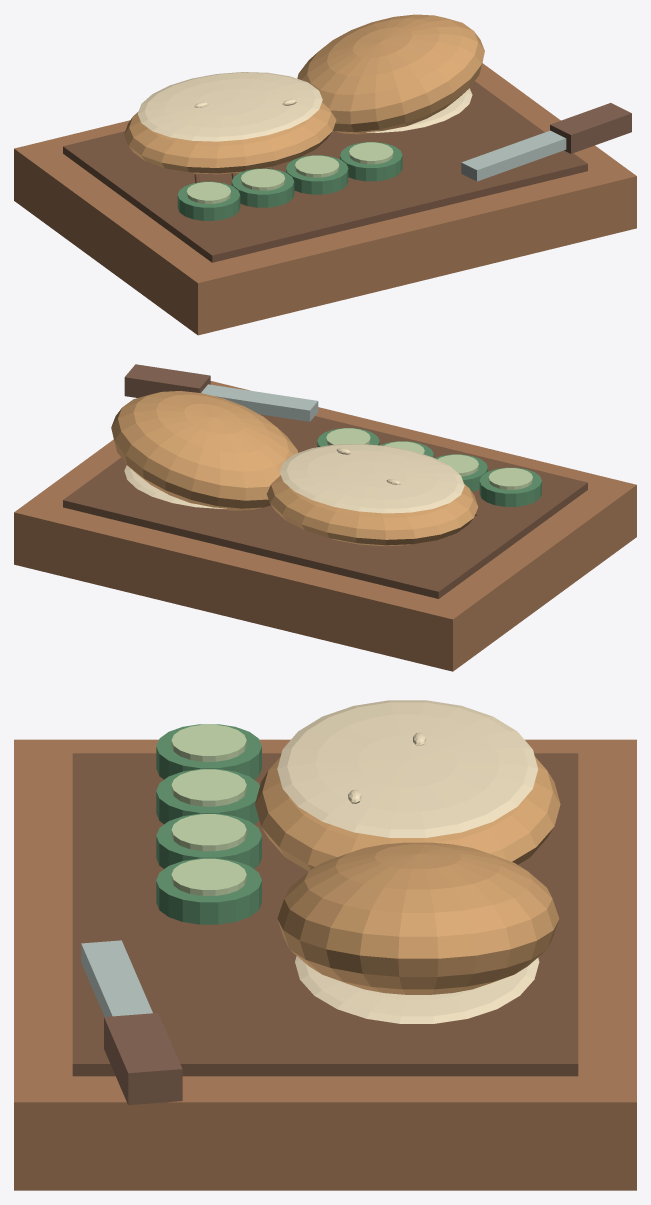
Rendered from sliced_bun_veg.glb.
3 views of the same model, one above another, from view 1: azimuth 30°, elevation 25°; view 2: azimuth 150°, elevation 25°; view 3: azimuth 270°, elevation 25° (orthographic). The views are drawn at different scales.
Visible parts, largest first — view 1: breakfast_bun_rounded_board_body, breakfast_bun_rounded_board_inset, bun_upper_half_leaning, bun_open_crumb, bun_lower_half, breakfast_bun_knife_handle, breakfast_bun_knife_blade, breakfast_cucumber_rind_0, breakfast_cucumber_rind_1, breakfast_cucumber_rind_2, breakfast_cucumber_rind_3, upper_bun_cut_face (+4 smaller); view 2: breakfast_bun_rounded_board_body, breakfast_bun_rounded_board_inset, bun_upper_half_leaning, bun_open_crumb, bun_lower_half, breakfast_bun_knife_blade, breakfast_bun_knife_handle, breakfast_cucumber_rind_0, breakfast_cucumber_core_0, upper_bun_cut_face, breakfast_cucumber_core_3, breakfast_cucumber_core_1 (+1 smaller); view 3: breakfast_bun_rounded_board_body, breakfast_bun_rounded_board_inset, bun_upper_half_leaning, bun_open_crumb, bun_lower_half, upper_bun_cut_face, breakfast_bun_knife_handle, breakfast_cucumber_rind_3, breakfast_bun_knife_blade, breakfast_cucumber_rind_2, breakfast_cucumber_rind_0, breakfast_cucumber_core_0 (+4 smaller).
Part boxes in pixels (x1,y1,x2,y2): breakfast_bun_rounded_board_body: (14, 63, 636, 335); breakfast_bun_rounded_board_inset: (63, 81, 587, 262); bun_upper_half_leaning: (297, 14, 484, 134); bun_open_crumb: (137, 72, 322, 141); bun_lower_half: (124, 102, 336, 174); breakfast_bun_knife_handle: (550, 103, 631, 153); breakfast_bun_knife_blade: (461, 130, 566, 181); breakfast_cucumber_rind_0: (177, 181, 240, 220); breakfast_cucumber_rind_1: (231, 168, 294, 207); breakfast_cucumber_rind_2: (286, 155, 348, 194); breakfast_cucumber_rind_3: (340, 142, 402, 181); upper_bun_cut_face: (366, 88, 472, 132); breakfast_bun_rounded_board_body: (14, 381, 636, 671); breakfast_bun_rounded_board_inset: (63, 414, 587, 598); bun_upper_half_leaning: (111, 391, 298, 510); bun_open_crumb: (279, 444, 464, 513); bun_lower_half: (266, 475, 478, 546); breakfast_bun_knife_blade: (201, 384, 318, 421); breakfast_bun_knife_handle: (124, 364, 210, 397); breakfast_cucumber_rind_0: (479, 467, 541, 506); breakfast_cucumber_core_0: (488, 468, 532, 489); upper_bun_cut_face: (124, 465, 226, 508); breakfast_cucumber_core_3: (326, 428, 370, 445); breakfast_cucumber_core_1: (437, 454, 478, 476); breakfast_bun_rounded_board_body: (14, 739, 636, 1190); breakfast_bun_rounded_board_inset: (72, 753, 578, 1076); bun_upper_half_leaning: (277, 842, 559, 994); bun_open_crumb: (277, 700, 537, 837); bun_lower_half: (255, 757, 560, 871); upper_bun_cut_face: (295, 956, 539, 1023); breakfast_bun_knife_handle: (104, 1013, 182, 1105); breakfast_cucumber_rind_3: (156, 858, 261, 924); breakfast_bun_knife_blade: (81, 940, 152, 1016); breakfast_cucumber_rind_2: (156, 813, 261, 868); breakfast_cucumber_rind_0: (156, 724, 261, 779); breakfast_cucumber_core_0: (171, 724, 246, 761).
Size of the model in its own units: 0.7778 by 0.2177 by 0.53.
